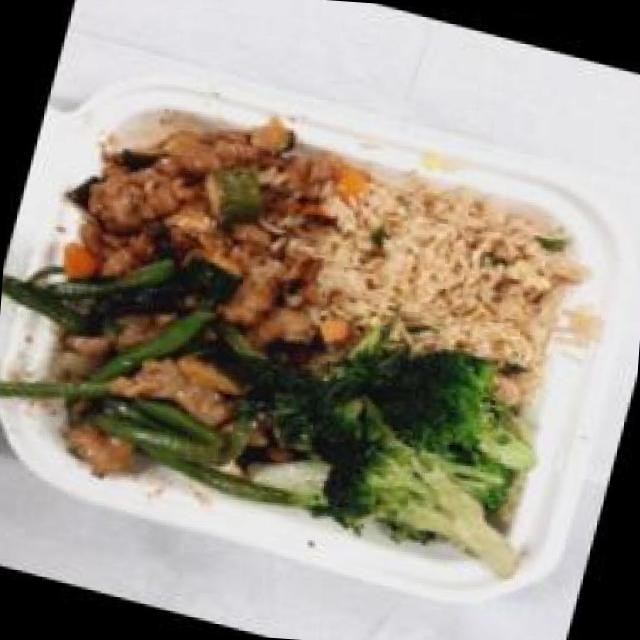Fried Rice: (316, 155, 606, 399)
Kung Pao Chicken: (45, 74, 383, 366)
String Bean Chicken Breast: (0, 235, 306, 512)
Super Greens: (255, 316, 562, 586)
